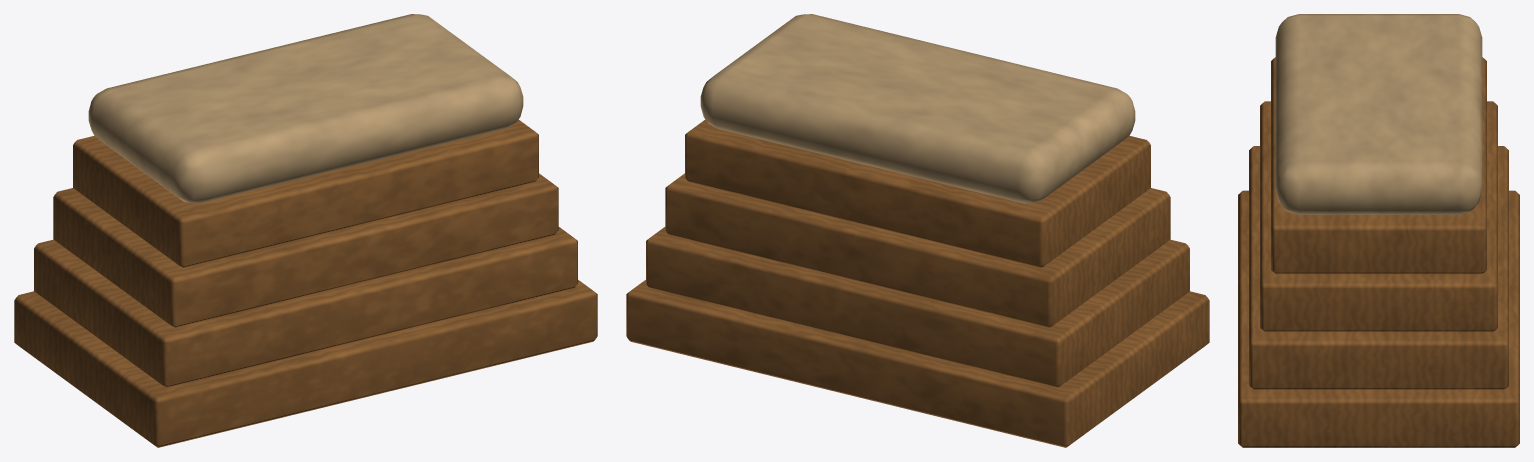
Rendered from Furn_VaultBox.fbx.
3 renders of one model, left to right at view 1: azimuth 30°, elevation 25°; view 2: azimuth 150°, elevation 25°; view 3: azimuth 270°, elevation 25°, orthographic. The views are drawn at different scales.
Visible parts, largest first — view 1: Furn_VaultBox_Mesh; view 2: Furn_VaultBox_Mesh; view 3: Furn_VaultBox_Mesh.
Part boxes in pixels (<box>): Furn_VaultBox_Mesh: <box>14,14,597,447</box>; Furn_VaultBox_Mesh: <box>626,14,1209,447</box>; Furn_VaultBox_Mesh: <box>1238,14,1519,447</box>.
Bounding box in the file's own units: 1.6 × 0.9 × 0.9.
2 materials, 2 textured.
